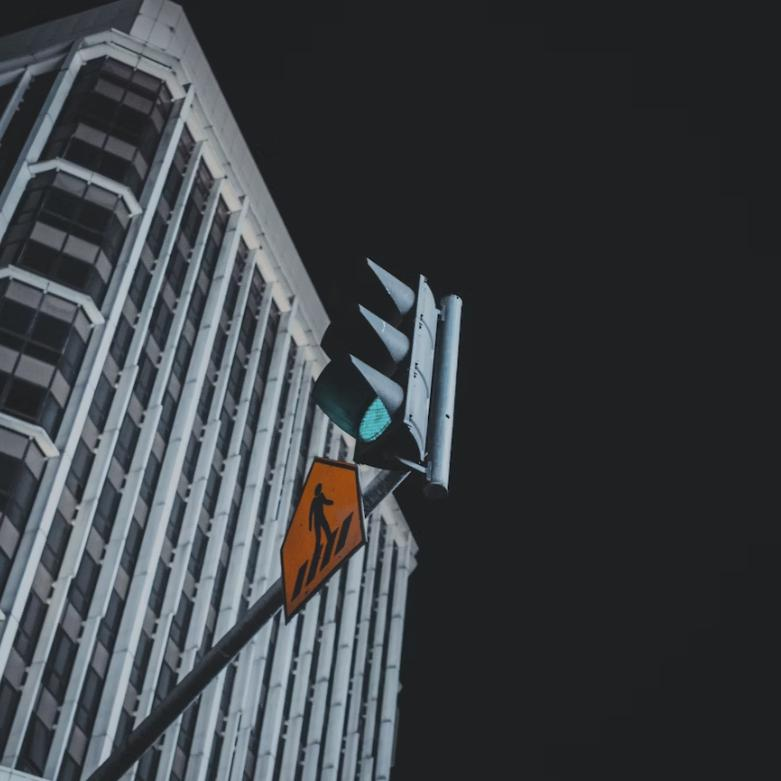green_light: (312, 257, 438, 468)
